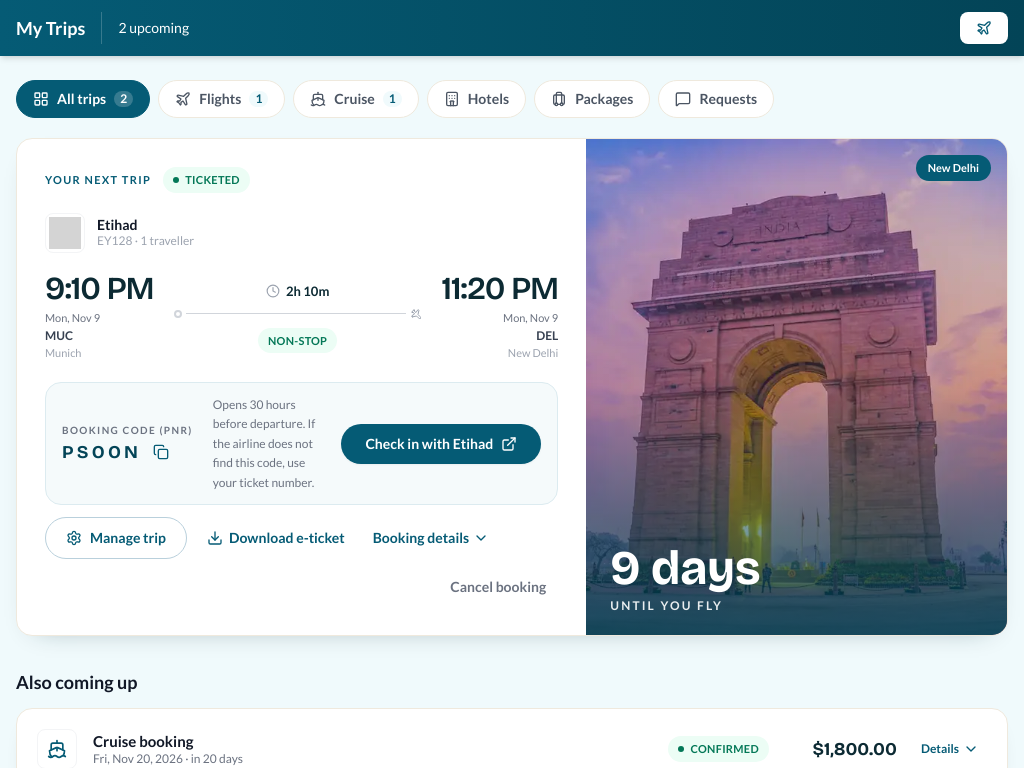
My Trips, next trip first › shows one kind of booking at a time from the tabs at the top
This screenshot has width=1024, height=768.
Click the tab "Cruise 1": x=356, y=99 [293,80,419,118]
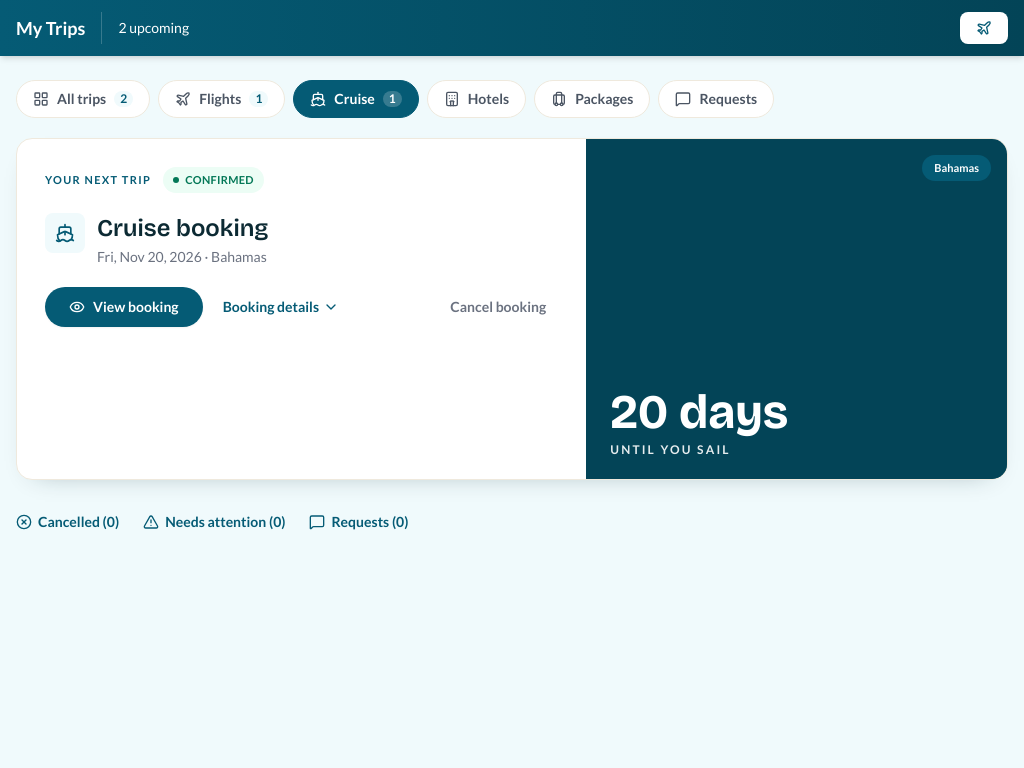
Expected: the text "Your next trip" is shown, [45,171,151,189]
Click the tab "Requests": x=716, y=99 [658,80,774,118]
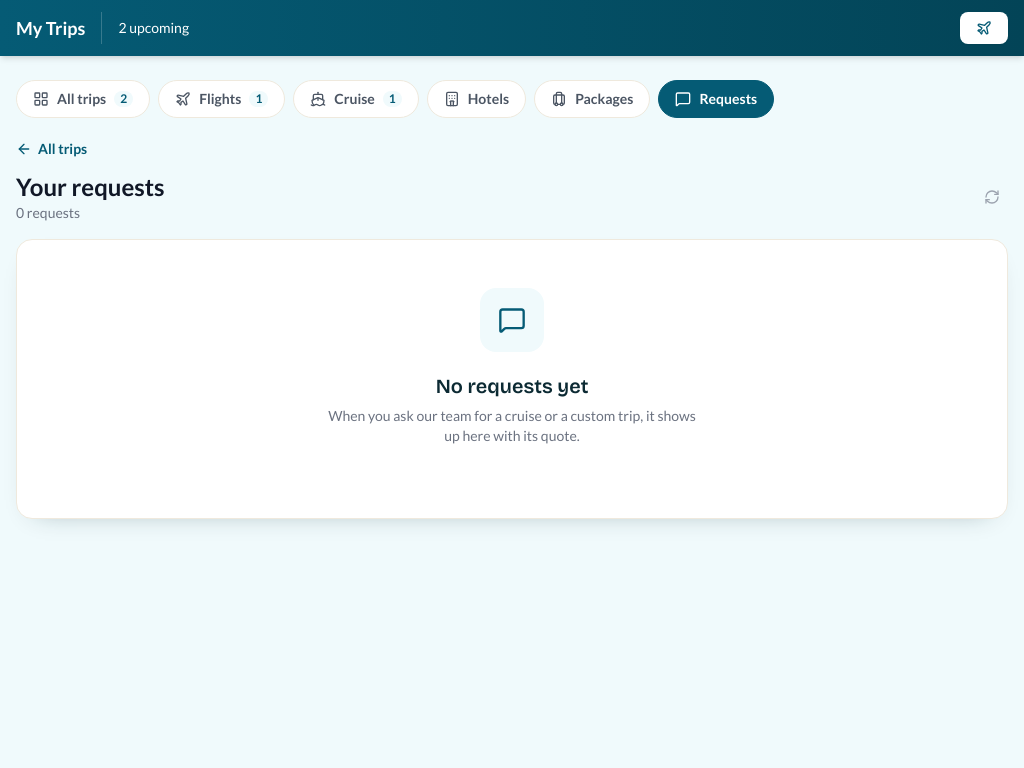
Result: the heading "Your requests" is shown at [16,171,165,203]
Click the tab "Flights 1": x=222, y=99 [158,80,285,118]
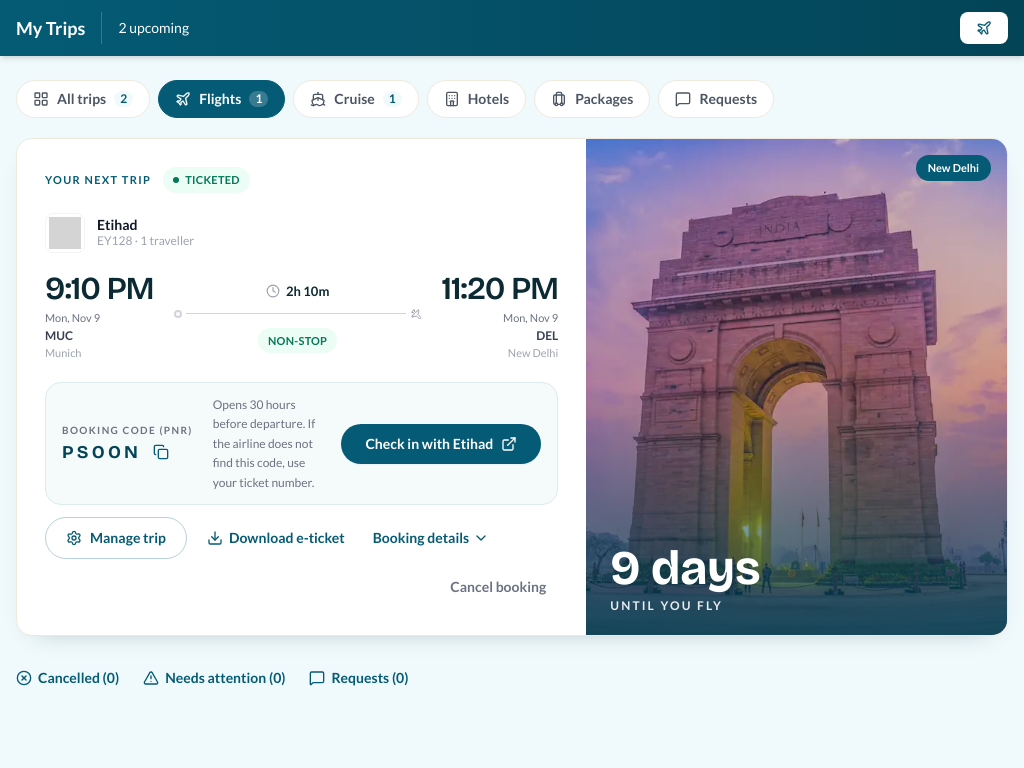
Result: the element with test id "trip-SOON" is shown
